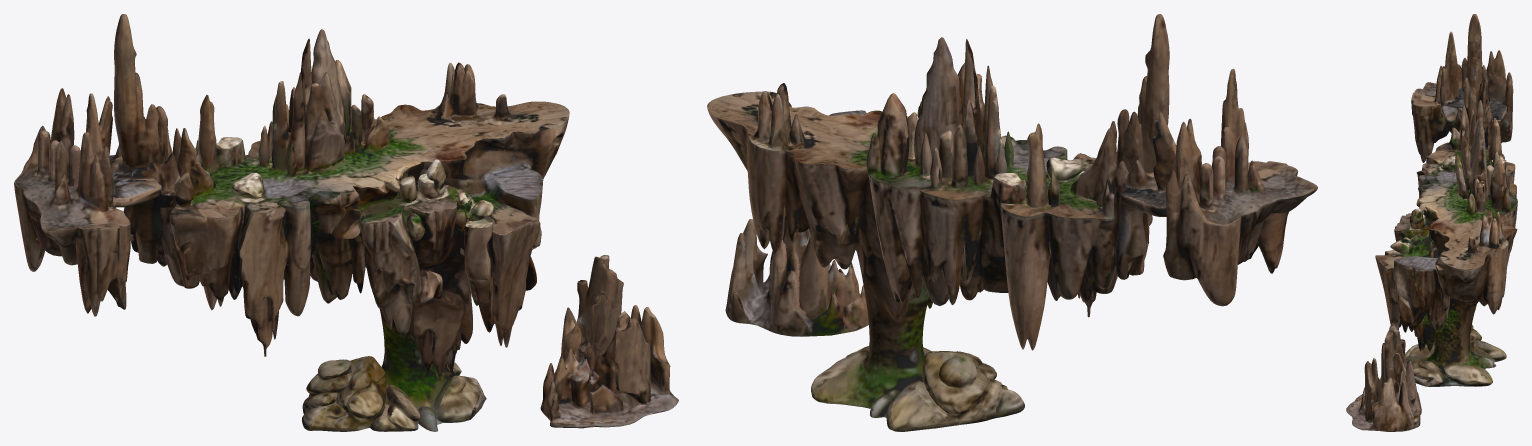
The model's file is Daobay3-v5.glb.
The picture shows the model from 3 angles, left to right: view 1: azimuth 30°, elevation 25°; view 2: azimuth 150°, elevation 25°; view 3: azimuth 270°, elevation 25°; orthographic projection. The views are drawn at different scales.
Visible parts, largest first — view 1: geometry_0; view 2: geometry_0; view 3: geometry_0.
Boxes of the visible parts, bbox=[...] form: geometry_0: bbox=[14, 14, 678, 431]; geometry_0: bbox=[707, 14, 1317, 431]; geometry_0: bbox=[1346, 14, 1517, 431].
Bounding box in the file's own units: 0.9585 × 0.6802 × 0.3871.
Materials: 1 (1 with a texture image).
